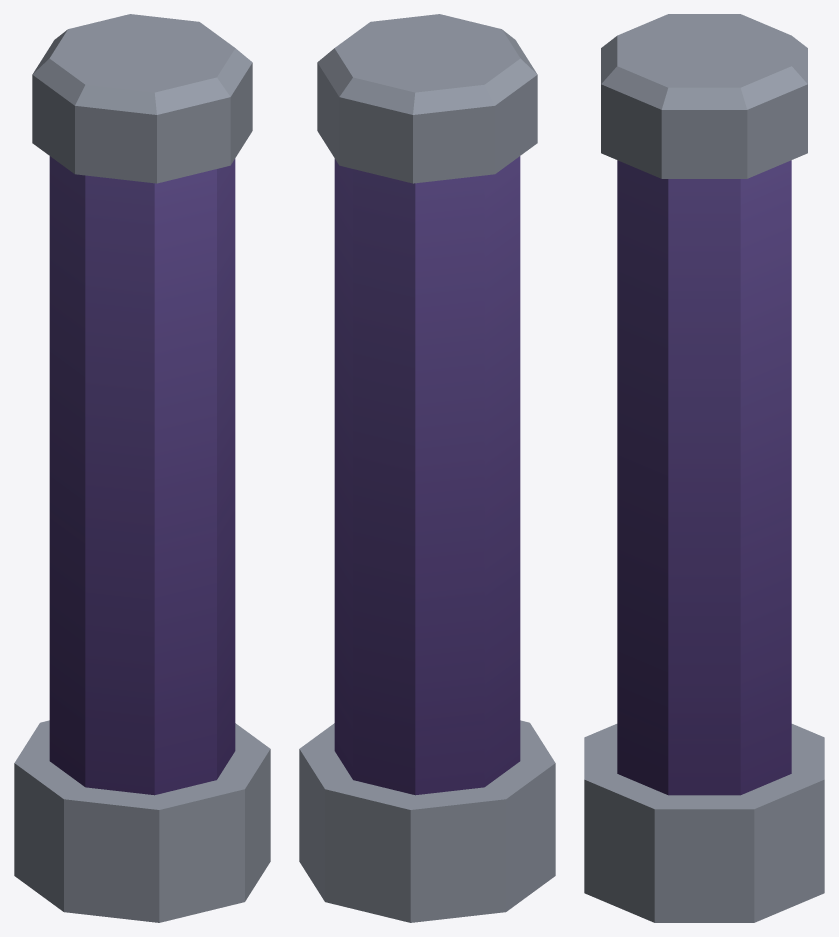
Rendered from SM_Props_Laboratory_08.fbx.
3 renders of one model, left to right at view 1: azimuth 30°, elevation 25°; view 2: azimuth 150°, elevation 25°; view 3: azimuth 270°, elevation 25°, orthographic.
Visible parts, largest first — view 1: SM_Props_Laboratory_08; view 2: SM_Props_Laboratory_08; view 3: SM_Props_Laboratory_08.
Boxes of the visible parts, x1,y1,x2,y2 form: SM_Props_Laboratory_08: (14, 14, 270, 922); SM_Props_Laboratory_08: (299, 14, 555, 922); SM_Props_Laboratory_08: (584, 14, 824, 922).
Size of the model in its own units: 0.0383 by 0.1443 by 0.0383.
